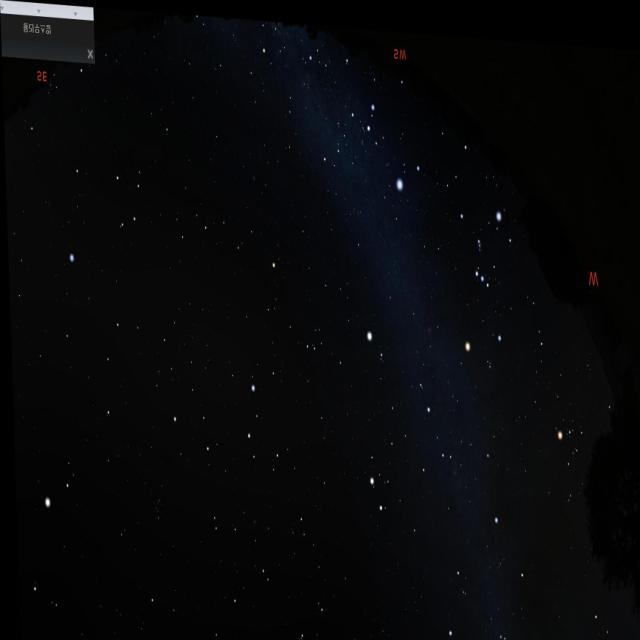bootes: (12, 469, 78, 640)
canis_major: (358, 92, 425, 195)
canis_minor: (357, 306, 387, 361)
gemini: (349, 381, 452, 528)
leo: (156, 348, 287, 491)
orion: (453, 194, 511, 352)
taurus: (544, 386, 625, 518)
